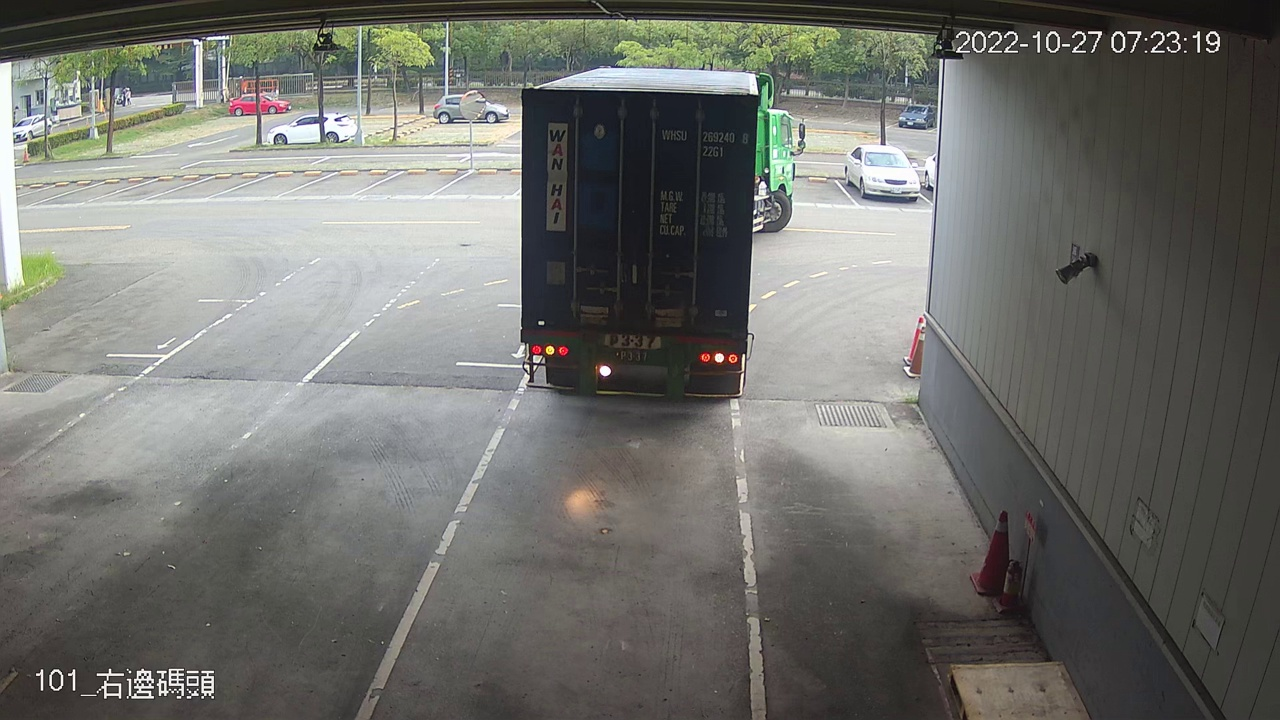container: (659, 123, 753, 163)
